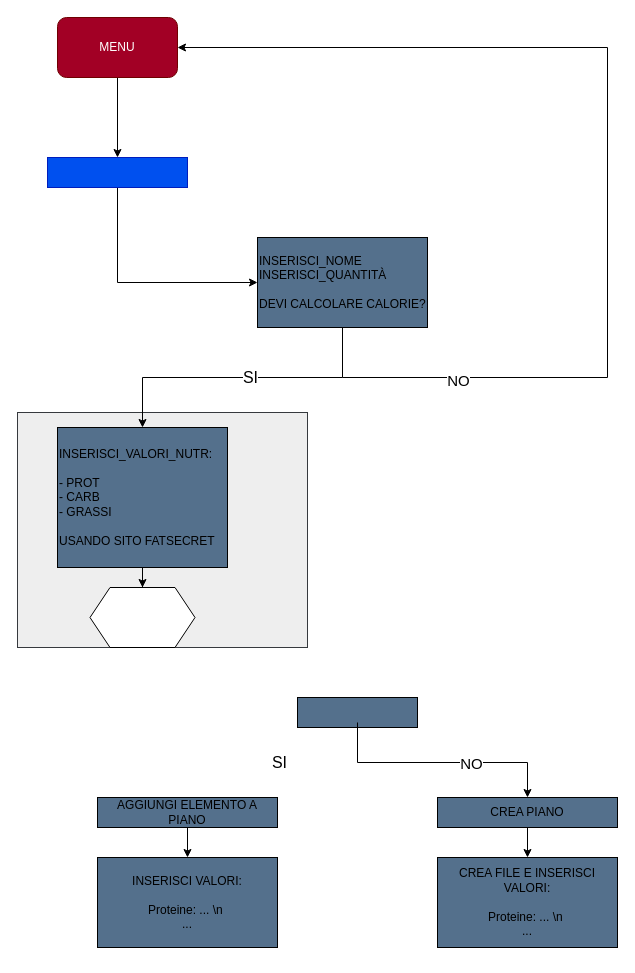
This 635x973 diagram has some shape labels left out. The shapes that lost their labels are listed below. From the top down, each one's centre as x and y in pixels, then its label:
At point (117, 172): "REGISTRA ALIMENTO".
At point (142, 617): "OUTPUT CALCOLO:".
At point (357, 712): "HAI GIÀ UN PIANO?".
